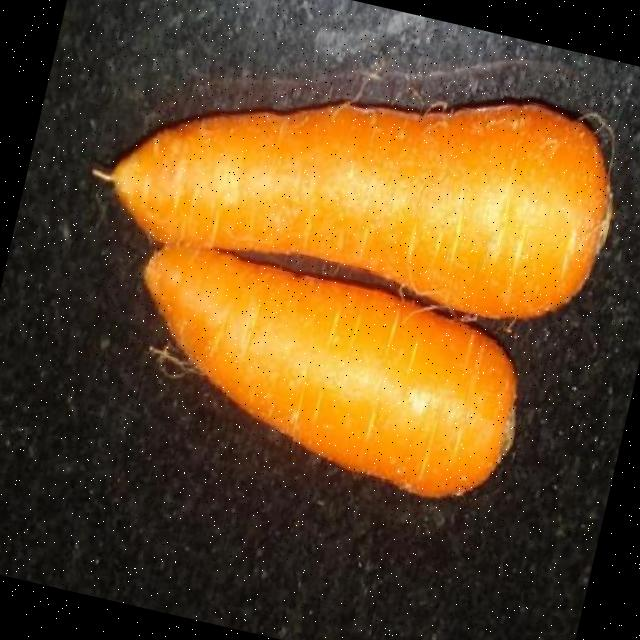carrot: (108, 102, 610, 317), (144, 246, 515, 495)
